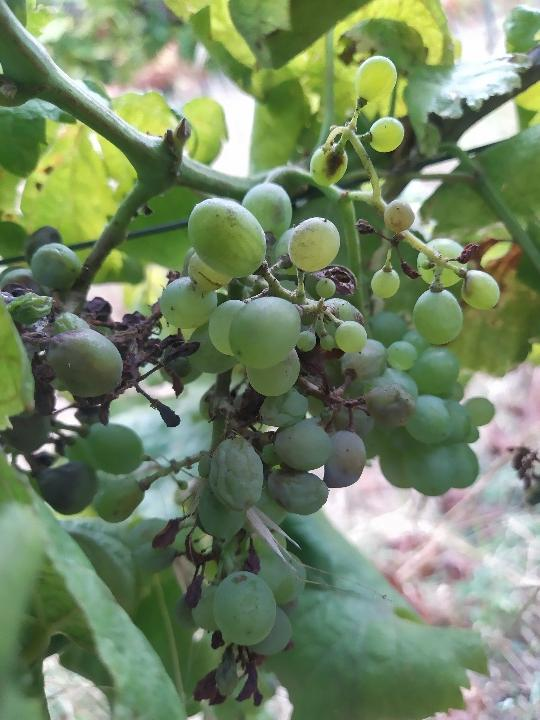grape: (151, 186, 492, 713)
